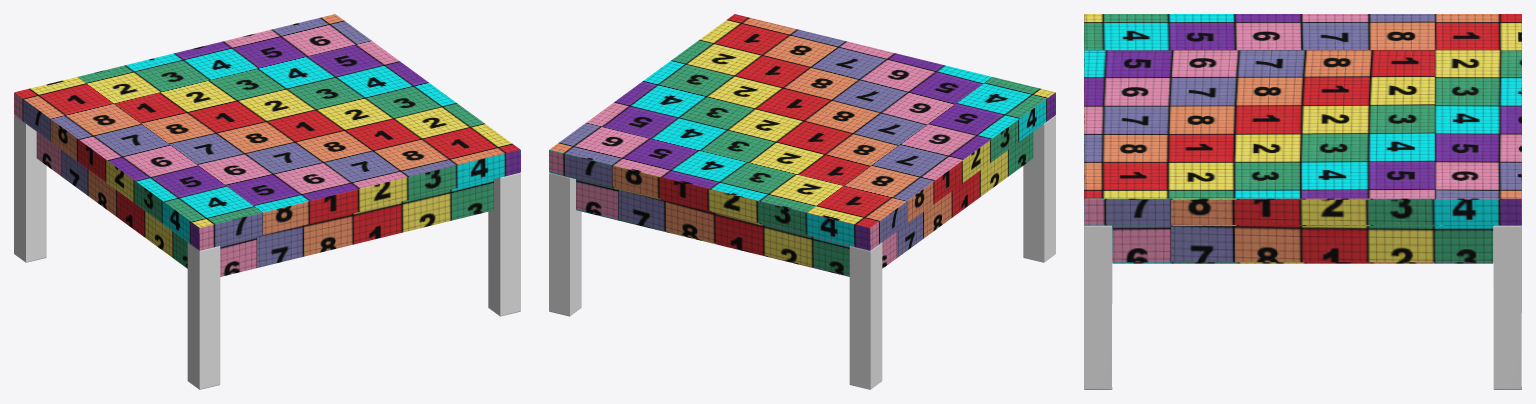
Rendered from table-fixed.glb.
The picture shows the model from 3 angles, left to right: view 1: azimuth 30°, elevation 25°; view 2: azimuth 150°, elevation 25°; view 3: azimuth 270°, elevation 25°; orthographic projection. The views are drawn at different scales.
Visible parts, largest first — view 1: mesh_0, mesh_1; view 2: mesh_0, mesh_1; view 3: mesh_0, mesh_1.
Boxes of the visible parts, x1,y1,x2,y2 form: mesh_0: [14, 14, 520, 276]; mesh_1: [14, 115, 520, 389]; mesh_0: [549, 14, 1055, 276]; mesh_1: [549, 115, 1055, 389]; mesh_0: [1084, 14, 1521, 263]; mesh_1: [1084, 225, 1521, 389].
Size of the model in its own units: 83 by 40 by 83.
2 materials, 1 textured.
